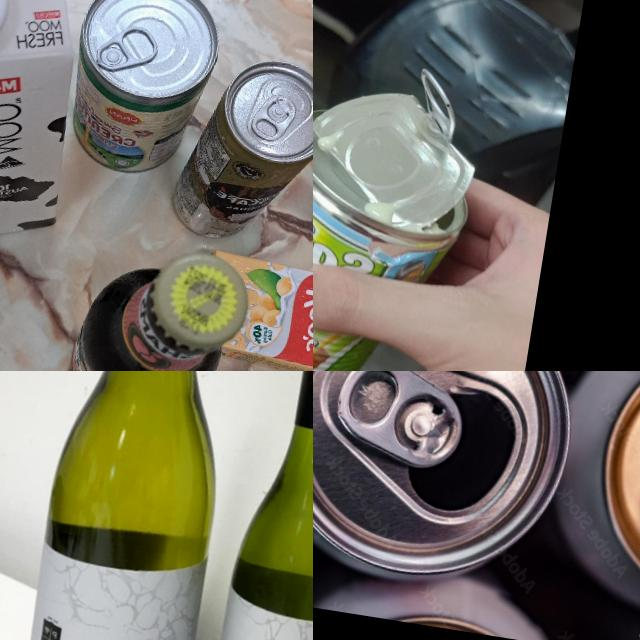aba de lata: (327, 371, 471, 471), (408, 67, 466, 142), (94, 19, 160, 78), (248, 91, 300, 143)
caixinha: (0, 0, 109, 263), (192, 247, 313, 371)
garrafa de vidro: (10, 371, 273, 640), (196, 371, 313, 640), (63, 235, 254, 371)
lata: (313, 371, 591, 600), (313, 40, 486, 371), (164, 46, 313, 255), (60, 0, 226, 183)
